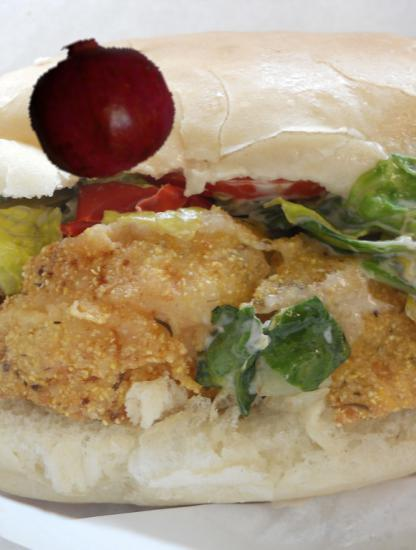Pomegranate: (27, 34, 174, 181)
